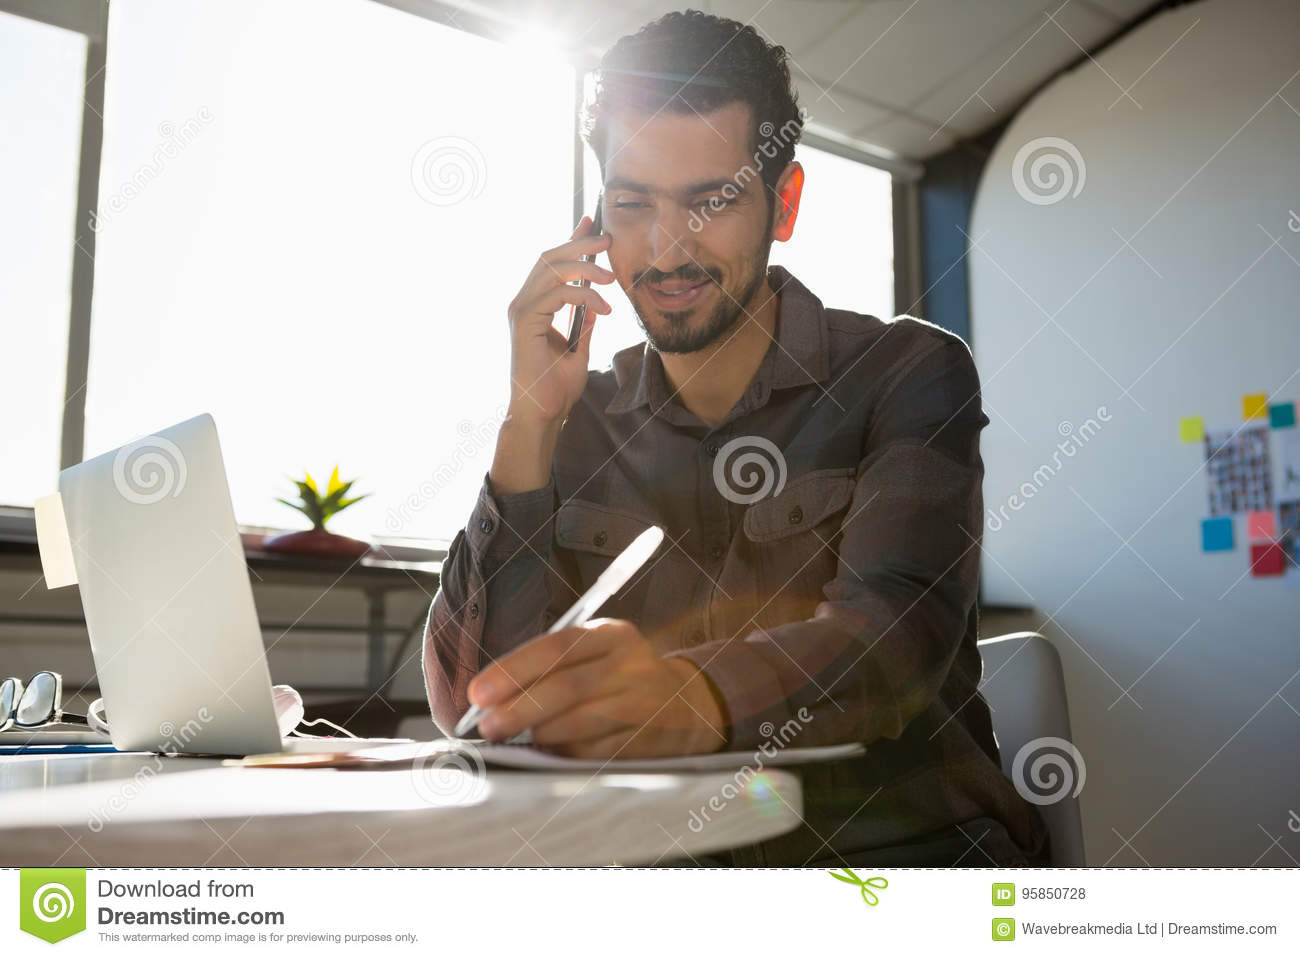phone: (568, 197, 610, 360)
talk: (504, 166, 749, 429)
